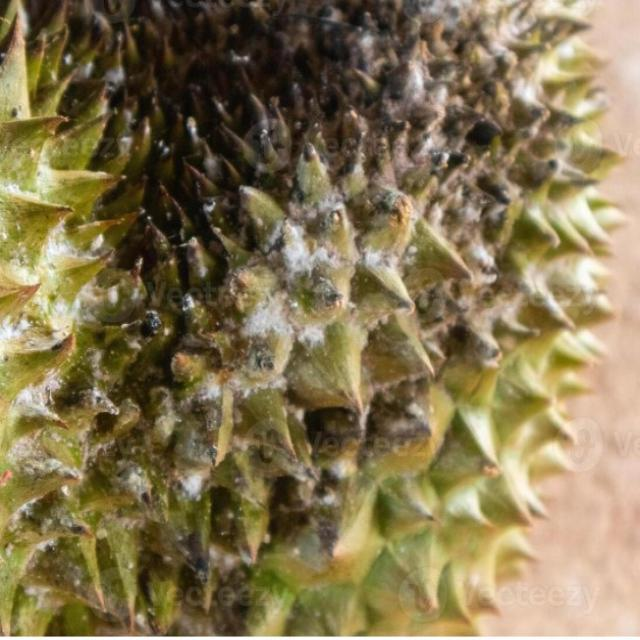defective: (3, 0, 607, 640)
